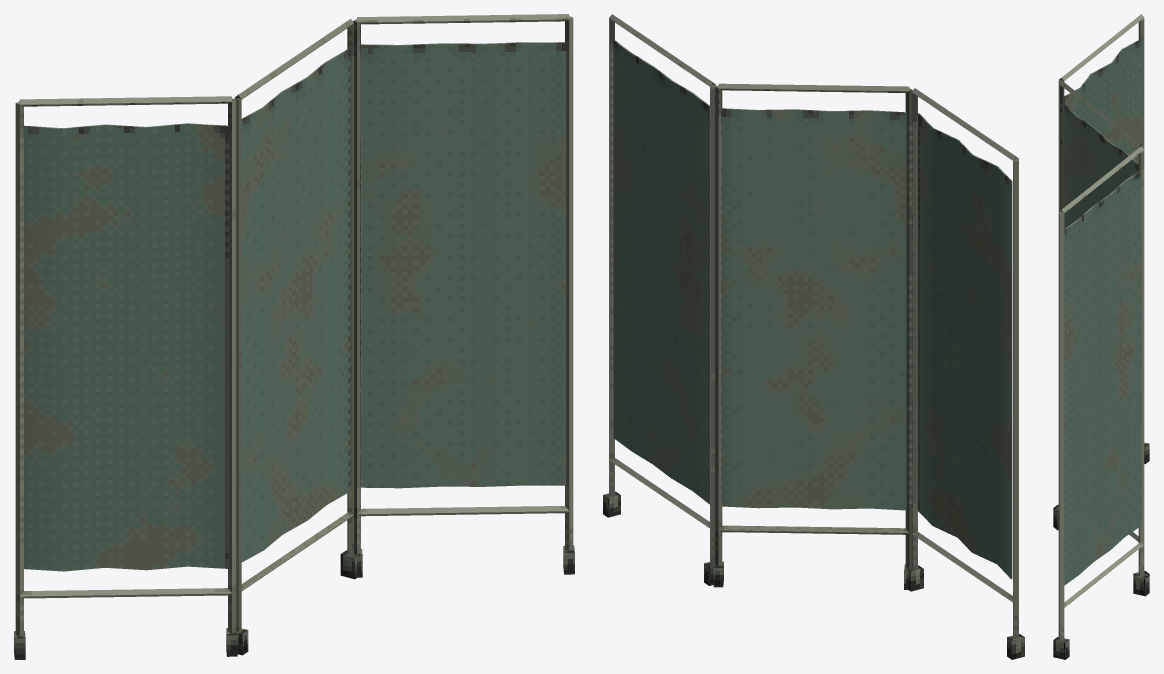
File: Folding_Screen_01.glb
3 renders of one model, left to right at view 1: azimuth 30°, elevation 25°; view 2: azimuth 150°, elevation 25°; view 3: azimuth 270°, elevation 25°, orthographic. The views are drawn at different scales.
Visible parts, largest first — view 1: Folding_Screen_01; view 2: Folding_Screen_01; view 3: Folding_Screen_01.
Part boxes in pixels (left/top/right/bottom): Folding_Screen_01: left=14, top=14, right=574, bottom=659; Folding_Screen_01: left=603, top=14, right=1024, bottom=659; Folding_Screen_01: left=1053, top=14, right=1149, bottom=659.
Bounding box in the file's own units: 1.75 × 1.81 × 0.3531.
1 material, 1 textured.
